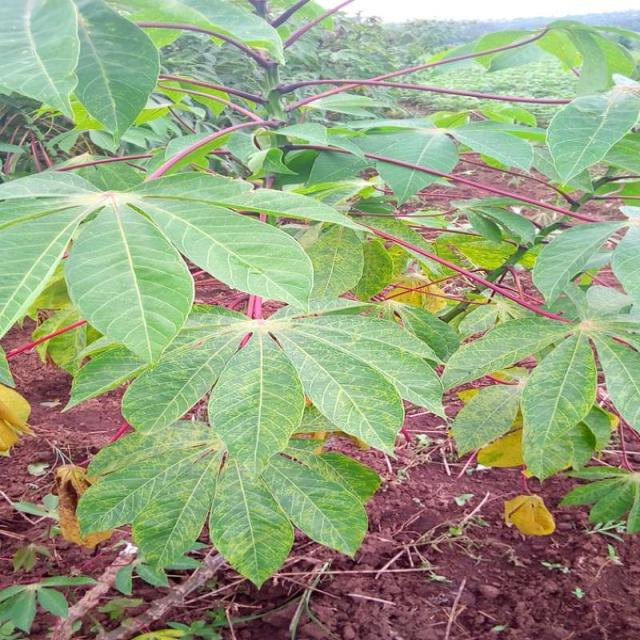cassava leaf: (2, 1, 640, 592), (64, 197, 196, 366)
